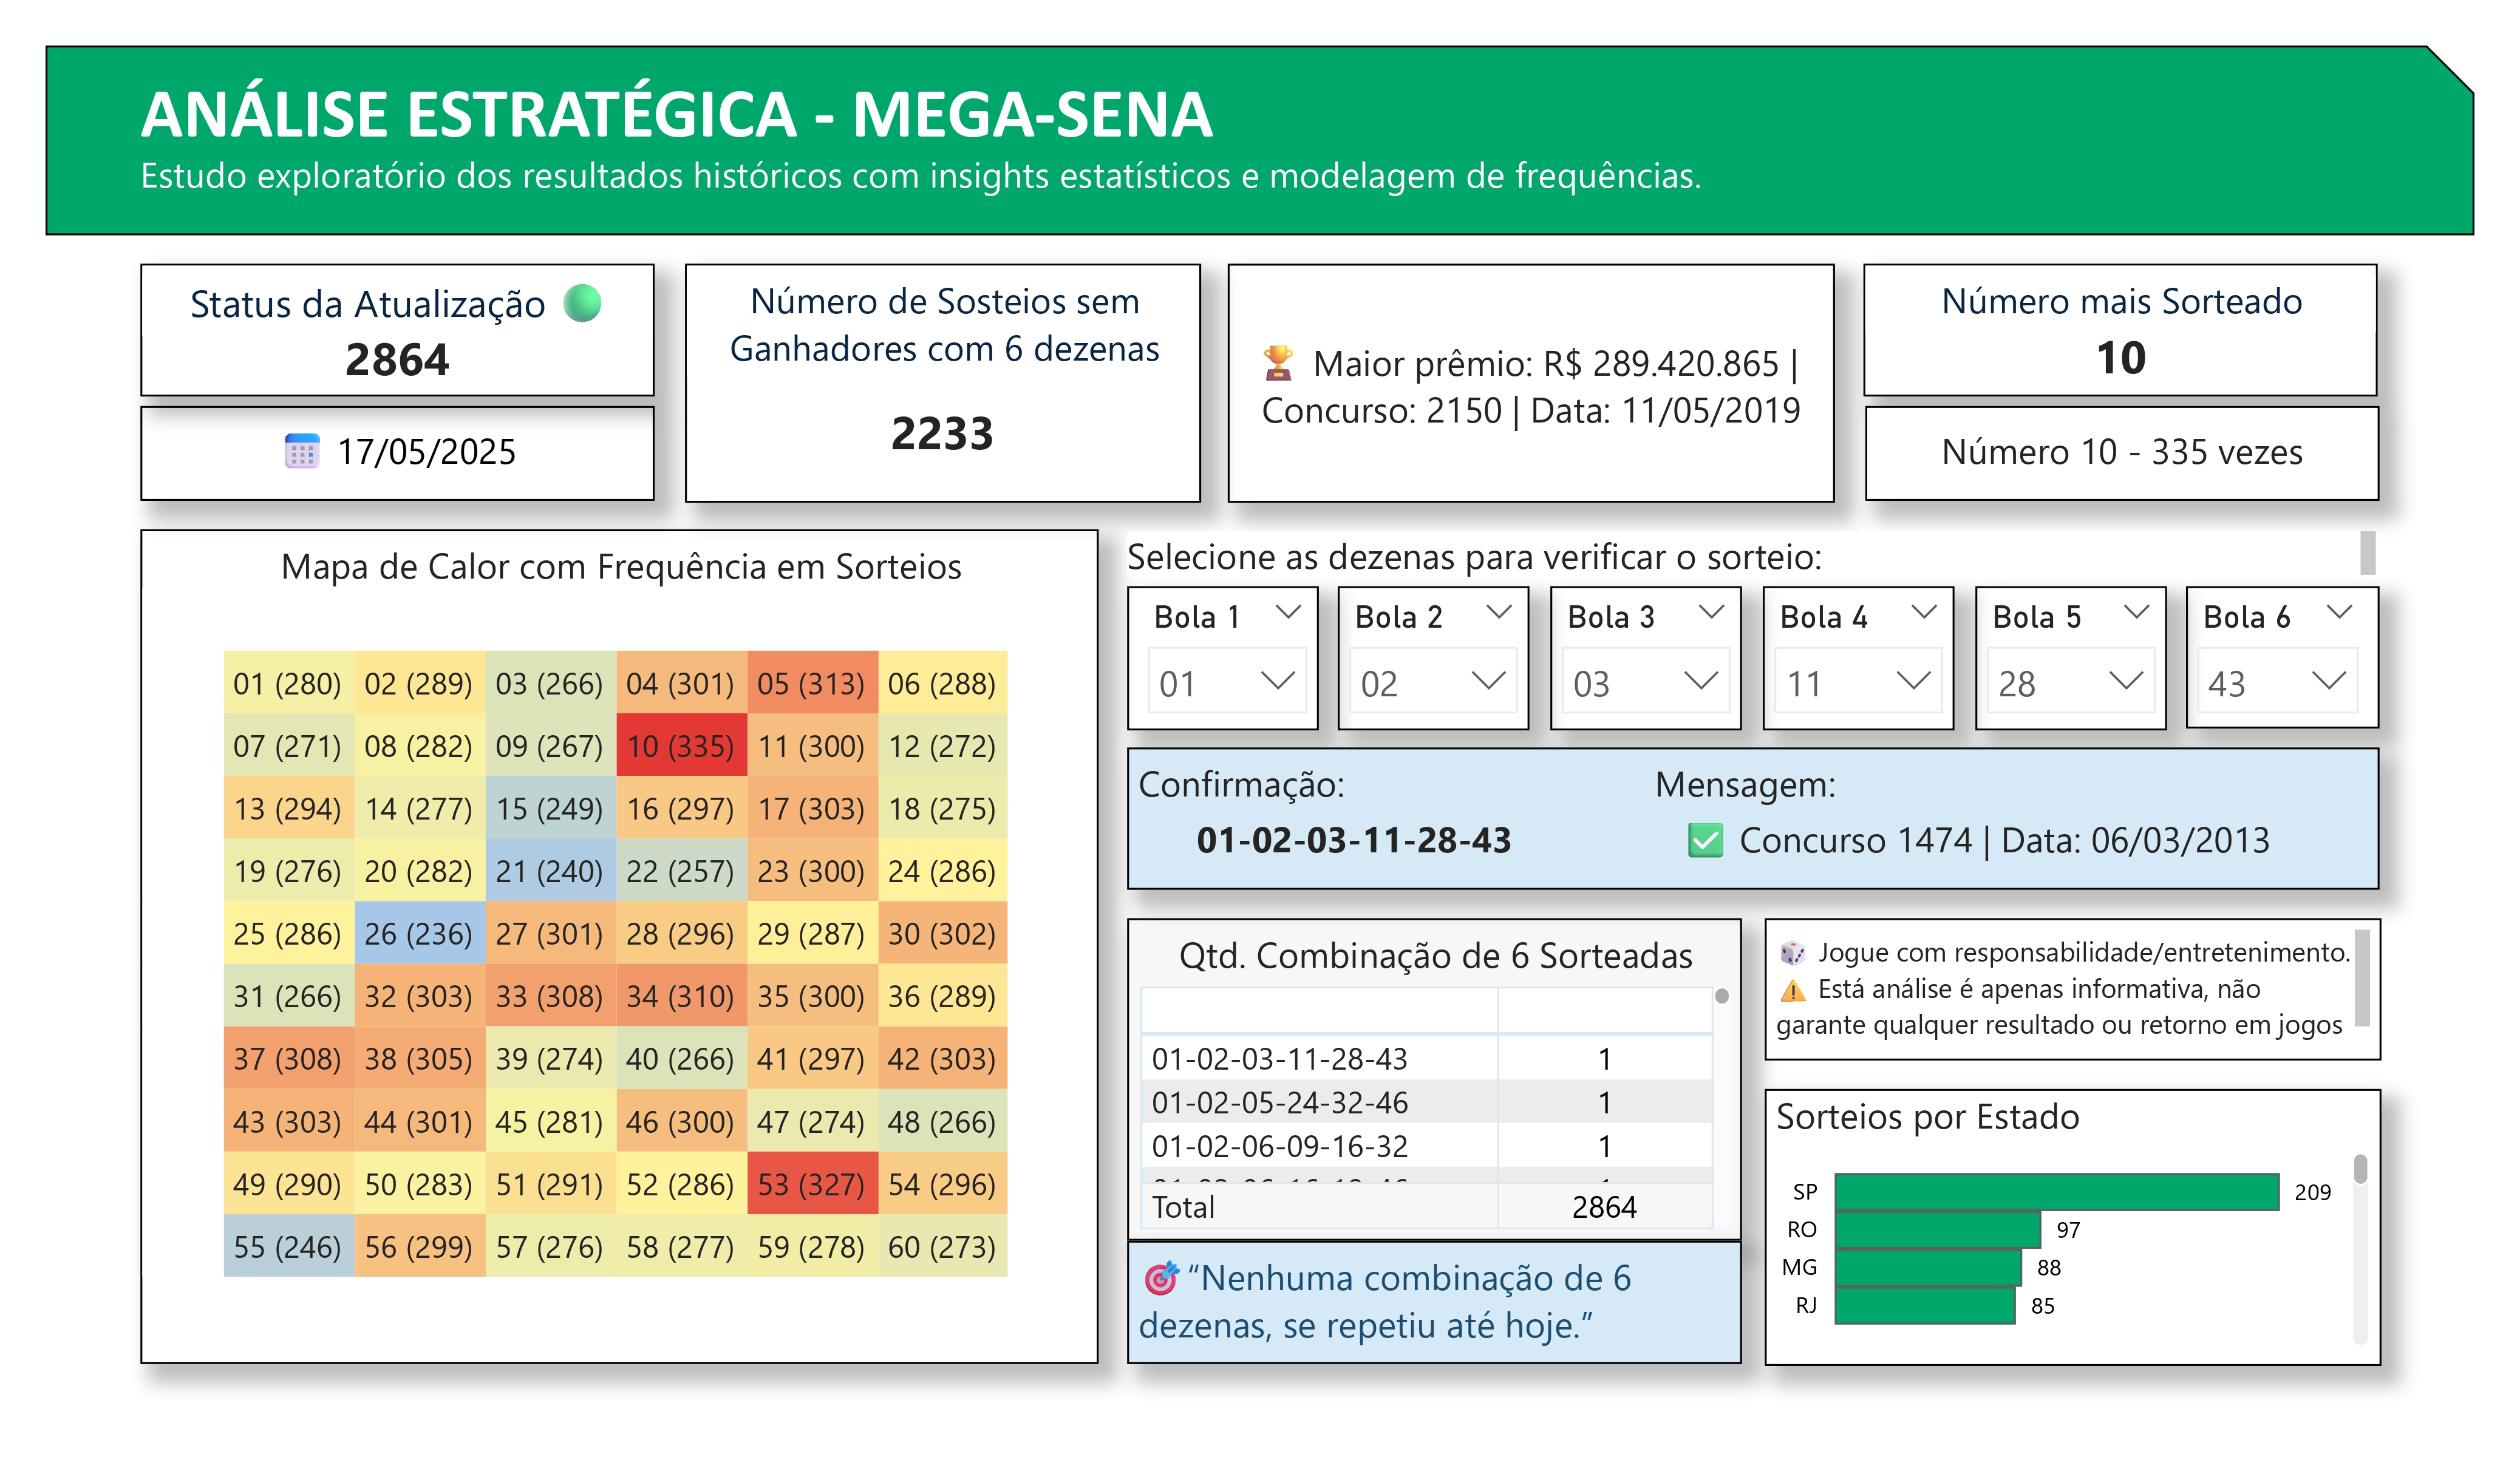

Layout of this report page (visuals, bound fields, positions):
{"tool":"powerbi","page":{"name":"Página 1","canvas":[1280,720],"ordinal":0},"visuals":[{"type":"shape","box":[0,0,1280,100.4],"z":0},{"type":"textbox","box":[50,12,600,50],"z":1000},{"type":"card","title":"Status da Atualização 🟢","fields":{"Values":["Count(d_megase csv.Concurso)"]},"box":[50,115,271,70],"z":2000,"group":"g1"},{"type":"pivotTable","title":"Mapa de Calor com Frequência em Sorteios","fields":{"Columns":["TabelaNumerosBase.Coluna"],"Rows":["TabelaNumerosBase.Linha"],"Values":["TabelaNumerosBase.NumeroQuantidade"]},"box":[50.2,255,505,440],"z":2000},{"type":"card","title":"Número mais Sorteado","fields":{"Values":["TabelaNumerosMegaSena.NumeroMaisSorteadoFinal"]},"box":[958,115,271.4,70],"z":3000,"group":"g2"},{"type":"tableEx","title":"Qtd. Combinação de 6 Sorteadas","fields":{"Values":["ResumoCombinacoes.Combinacao6","Sum(ResumoCombinacoes.Qtd)"]},"box":[570,460,324.3,170],"z":3000},{"type":"textbox","box":[570,630,324.3,65],"z":4000},{"type":"card","title":"Contagem de Concurso","fields":{"Values":["TabelaNumerosMegaSena.TextoNumeroMaisSorteado"]},"box":[958.9,190,271.4,50.2],"z":5000,"group":"g2"},{"type":"clusteredBarChart","title":"Sorteios por Estado","fields":{"Y":["EstadosExtraidos.QtdSorteiosPorUF"],"Category":["EstadosExtraidos.UF"]},"box":[905.6,550,325.6,145.6],"z":5000},{"type":"textbox","box":[50.2,55,835,25],"z":6000},{"type":"card","fields":{"Values":["d_megase csv.InfoMaiorPremio"]},"box":[623,115,320,125.5],"z":7000},{"type":"group","id":"g1","title":"Grupo 2","box":[50,115,271,125.5],"z":8000},{"type":"slicer","fields":{"Values":["Input1.Input"]},"box":[570,285.2,101,75.3],"z":8000,"group":"g3"},{"type":"group","id":"g2","title":"Grupo 3","box":[958,115,269.8,125.5],"z":9000},{"type":"card","title":"Status da Atualização 🟢","fields":{"Values":["d_megase csv.DataEConcursoUltimoSorteio"]},"box":[50,190.3,271,50.2],"z":9000,"group":"g1"},{"type":"card","title":"Número de  Sosteios sem Ganhadores com 6 dezenas","fields":{"Values":["d_megase csv.SorteiosSemGanhador"]},"box":[337,115,271.9,125.5],"z":10000},{"type":"group","id":"g3","title":"Grupo 1","box":[570,255.8,660,189.2],"z":11000},{"type":"slicer","fields":{"Values":["Input2.Input"]},"box":[681,285,101,75.3],"z":11000,"group":"g3"},{"type":"textbox","box":[905.6,460,325.6,75],"z":12000},{"type":"slicer","fields":{"Values":["Input3.Input"]},"box":[793,285,101,75.3],"z":13000,"group":"g3"},{"type":"slicer","fields":{"Values":["Input4.Input"]},"box":[905,285,101,75.3],"z":14000,"group":"g3"},{"type":"slicer","fields":{"Values":["Input5.Input"]},"box":[1017,285,101,75.3],"z":16000,"group":"g3"},{"type":"slicer","fields":{"Values":["Input6.Input"]},"box":[1128.3,285,101.7,75],"z":17000,"group":"g3"},{"type":"textbox","box":[570,370,660,75],"z":18000,"group":"g3"},{"type":"textbox","box":[570.2,255.8,658.2,24.4],"z":19000,"group":"g3"},{"type":"card","fields":{"Values":["Input1.CombinacaoUsuario"]},"box":[600,405,180,30],"z":20000,"group":"g3"},{"type":"card","fields":{"Values":["Input1.ConcursoEDataSorteio"]},"box":[845,405,345,30],"z":21000,"group":"g3"}]}

Visuals, with their boxes in screenshot pixels (x1, y1, x2, y2):
shape: left=52, top=39, right=2450, bottom=227
textbox: left=146, top=62, right=1270, bottom=155
"Status da Atualização 🟢" card: left=146, top=255, right=653, bottom=385
"Mapa de Calor com Frequência em Sorteios" pivotTable: left=146, top=517, right=1092, bottom=1340
"Número mais Sorteado" card: left=1847, top=255, right=2355, bottom=385
"Qtd. Combinação de 6 Sorteadas" tableEx: left=1120, top=900, right=1727, bottom=1219
textbox: left=1120, top=1219, right=1727, bottom=1340
"Contagem de Concurso" card: left=1848, top=395, right=2357, bottom=489
"Sorteios por Estado" clusteredBarChart: left=1748, top=1069, right=2358, bottom=1342
textbox: left=146, top=142, right=1710, bottom=189
card - d_megase csv.InfoMaiorPremio: left=1219, top=255, right=1819, bottom=490
"Grupo 2" group: left=146, top=255, right=653, bottom=490
slicer - Input1.Input: left=1120, top=573, right=1309, bottom=715
"Grupo 3" group: left=1847, top=255, right=2352, bottom=490
"Status da Atualização 🟢" card: left=146, top=396, right=653, bottom=490
"Número de  Sosteios sem Ganhadores com 6 dezenas" card: left=684, top=255, right=1193, bottom=490
"Grupo 1" group: left=1120, top=518, right=2356, bottom=872
slicer - Input2.Input: left=1328, top=573, right=1517, bottom=714
textbox: left=1748, top=900, right=2358, bottom=1041
slicer - Input3.Input: left=1538, top=573, right=1727, bottom=714
slicer - Input4.Input: left=1747, top=573, right=1936, bottom=714
slicer - Input5.Input: left=1957, top=573, right=2146, bottom=714
slicer - Input6.Input: left=2165, top=573, right=2356, bottom=713
textbox: left=1120, top=732, right=2356, bottom=872
textbox: left=1120, top=518, right=2353, bottom=564
card - Input1.CombinacaoUsuario: left=1176, top=798, right=1513, bottom=854
card - Input1.ConcursoEDataSorteio: left=1635, top=798, right=2281, bottom=854
